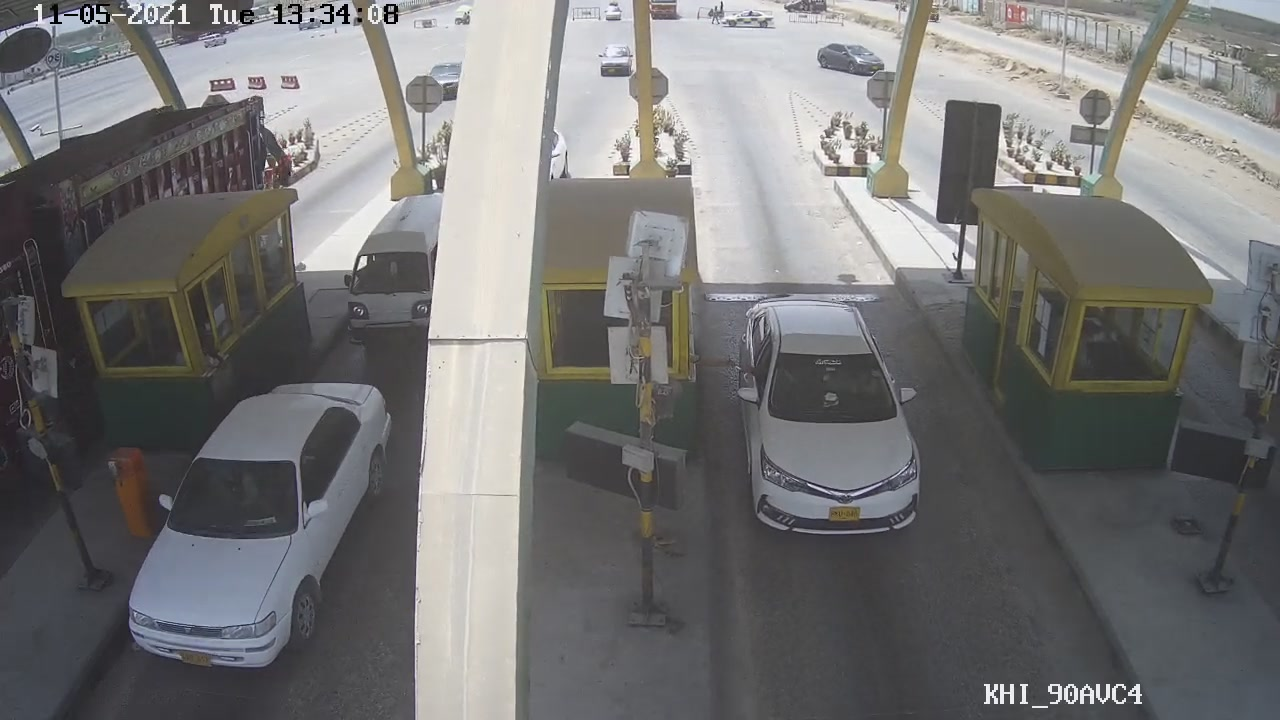F1: (736, 285, 931, 542)
